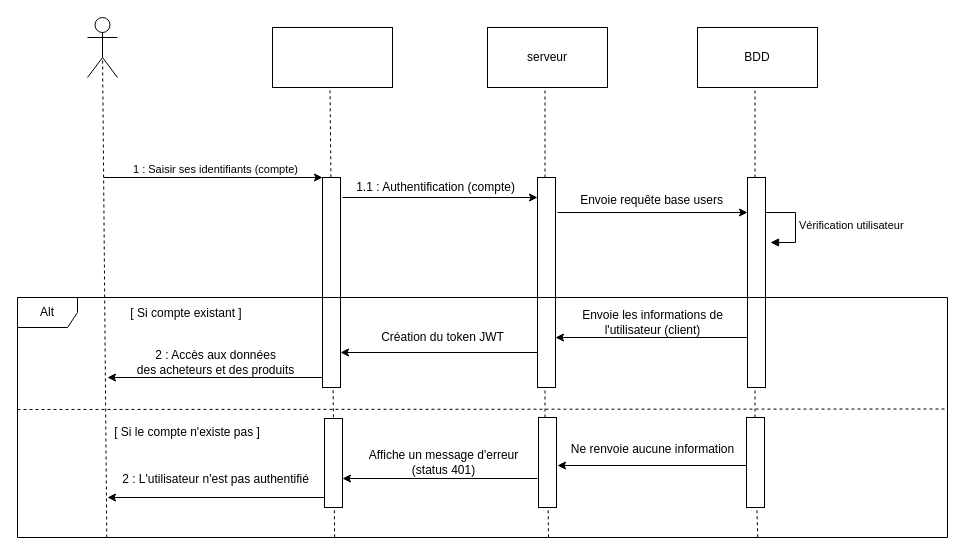
Some shapes in this 966 by 556 pixel diagram are drawn without their labels. Each missing label, with the centre of its shape:
"system" belongs at point 332,57.
"Utilisateur ( Client )" belongs at point 102,47.
